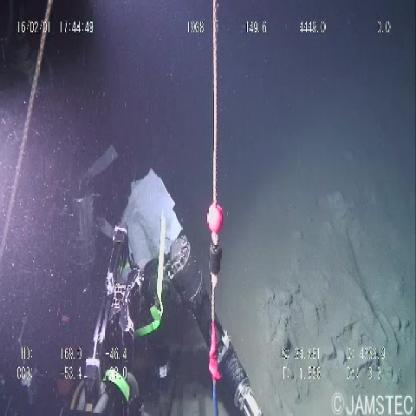Rov: (82, 220, 264, 416)
Rác: (112, 166, 184, 268)
